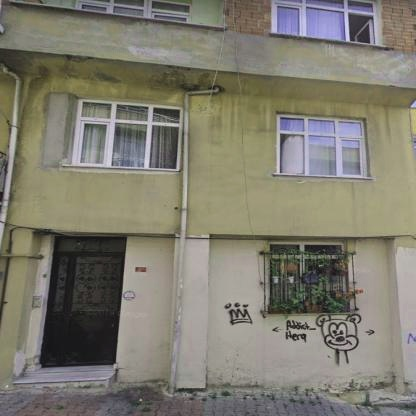door: (43, 253, 124, 364)
